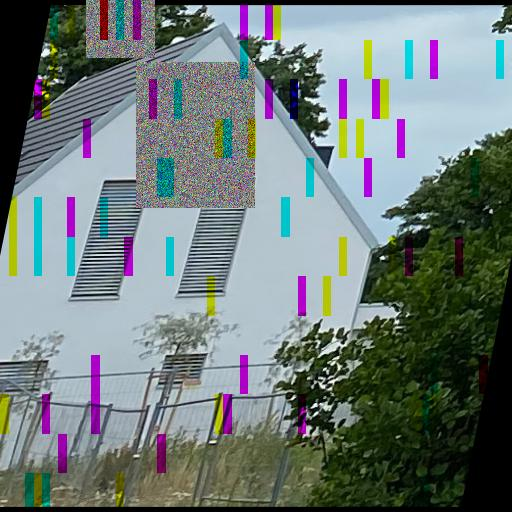tree: (27, 5, 331, 146), (376, 128, 512, 279)
